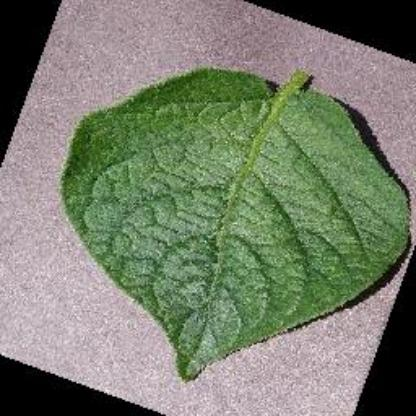Healthy-plant: (56, 61, 416, 384)
